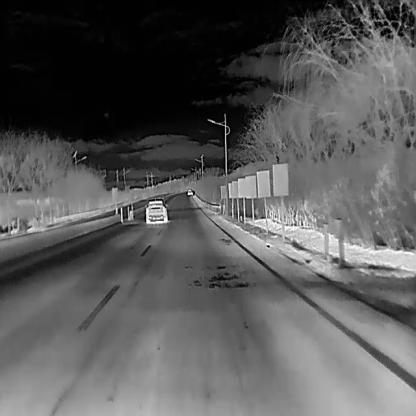car: (144, 199, 167, 223), (188, 189, 192, 195)
